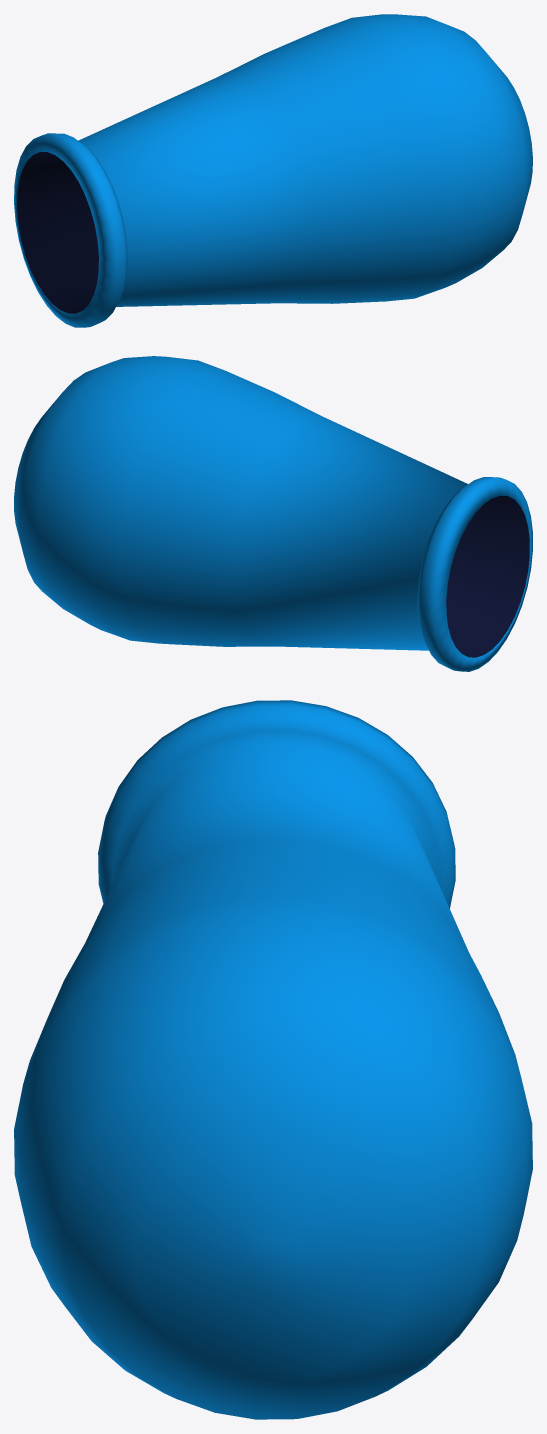
The model's file is TOP NOVI.fbx.
3 renders of one model, top to bottom at view 1: azimuth 30°, elevation 25°; view 2: azimuth 150°, elevation 25°; view 3: azimuth 270°, elevation 25°, orthographic. The views are drawn at different scales.
Visible parts, largest first — view 1: Cylinder.002; view 2: Cylinder.002; view 3: Cylinder.002.
Part boxes in pixels (x1=…): Cylinder.002: x1=14, y1=14, x2=532, y2=327; Cylinder.002: x1=14, y1=356, x2=532, y2=671; Cylinder.002: x1=14, y1=700, x2=532, y2=1419.
Size of the model in its own units: 751 by 412 by 412.
